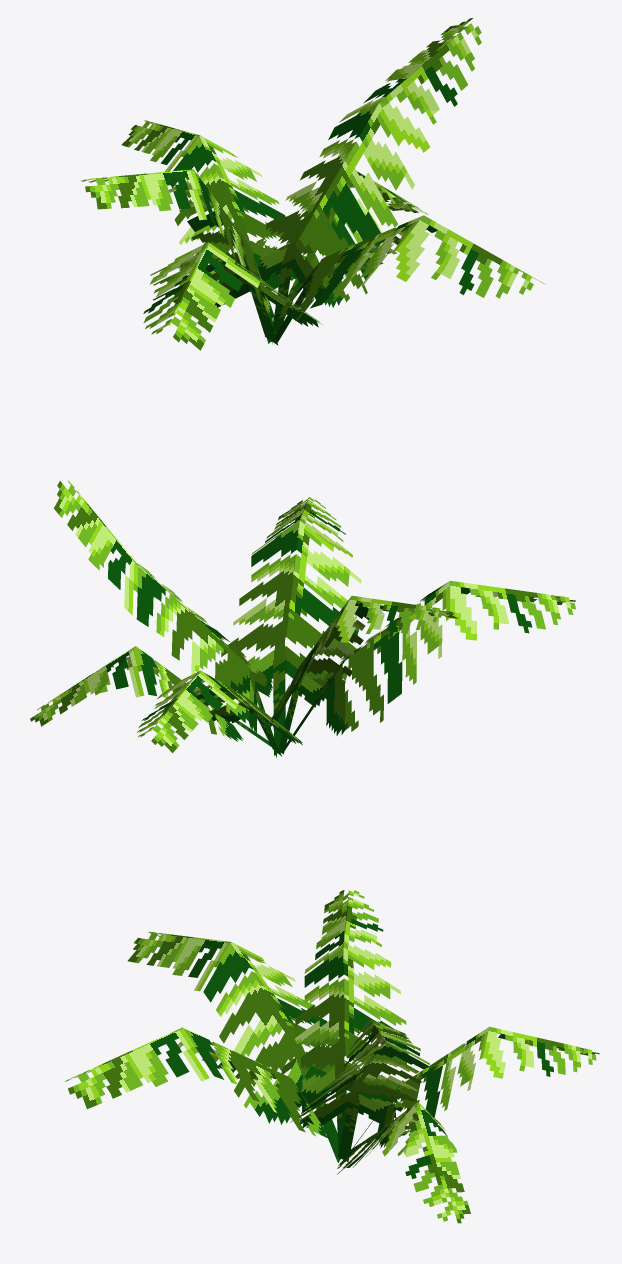
File: fern.glb
The picture shows the model from 3 angles, top to bottom: view 1: azimuth 30°, elevation 25°; view 2: azimuth 150°, elevation 25°; view 3: azimuth 270°, elevation 25°; orthographic projection. The views are drawn at different scales.
Parts seen in each view (by area): view 1: Plane.007; view 2: Plane.007; view 3: Plane.007.
Part boxes in pixels (left/top/right/bottom): Plane.007: left=81, top=18, right=545, bottom=350; Plane.007: left=30, top=480, right=575, bottom=757; Plane.007: left=65, top=890, right=599, bottom=1223.
Size of the model in its own units: 1.48 by 0.8759 by 1.57.
Materials: 1 (1 with a texture image).
